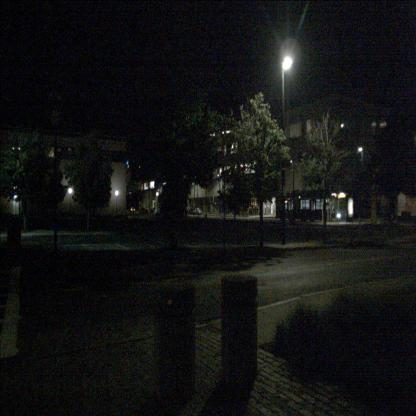human-pedestrian-adult: (331, 208, 336, 222)
vehicle-car: (193, 208, 202, 215)
